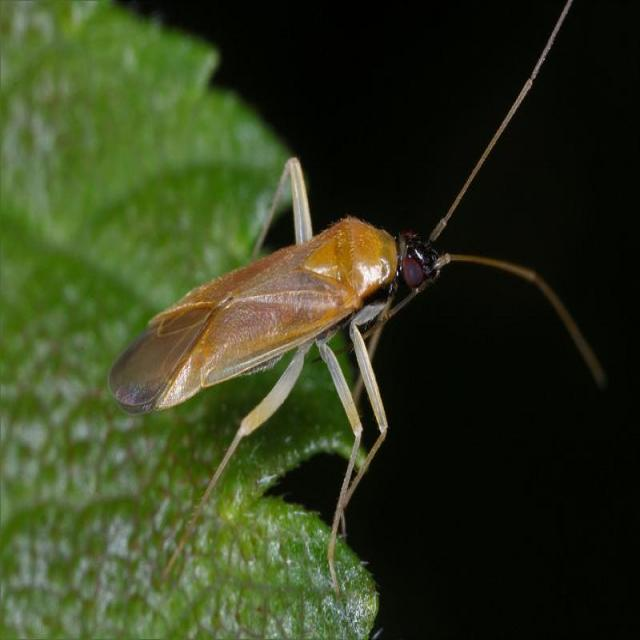Miridae-Adult-: (78, 102, 550, 562)
